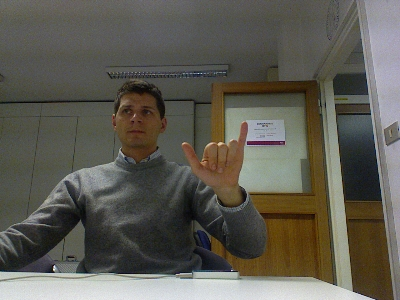六六六: (180, 120, 248, 191)
